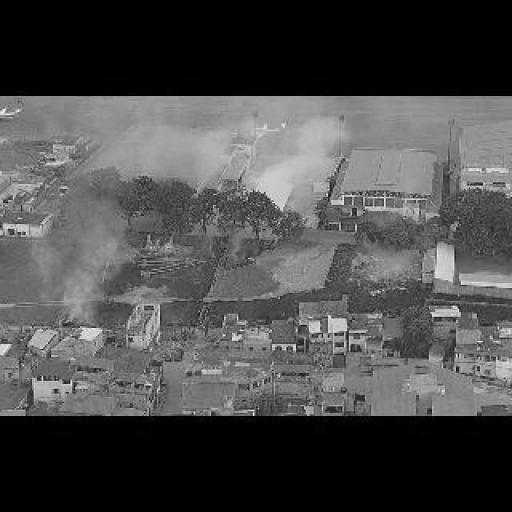smoke: (32, 198, 136, 325), (141, 227, 181, 251)
